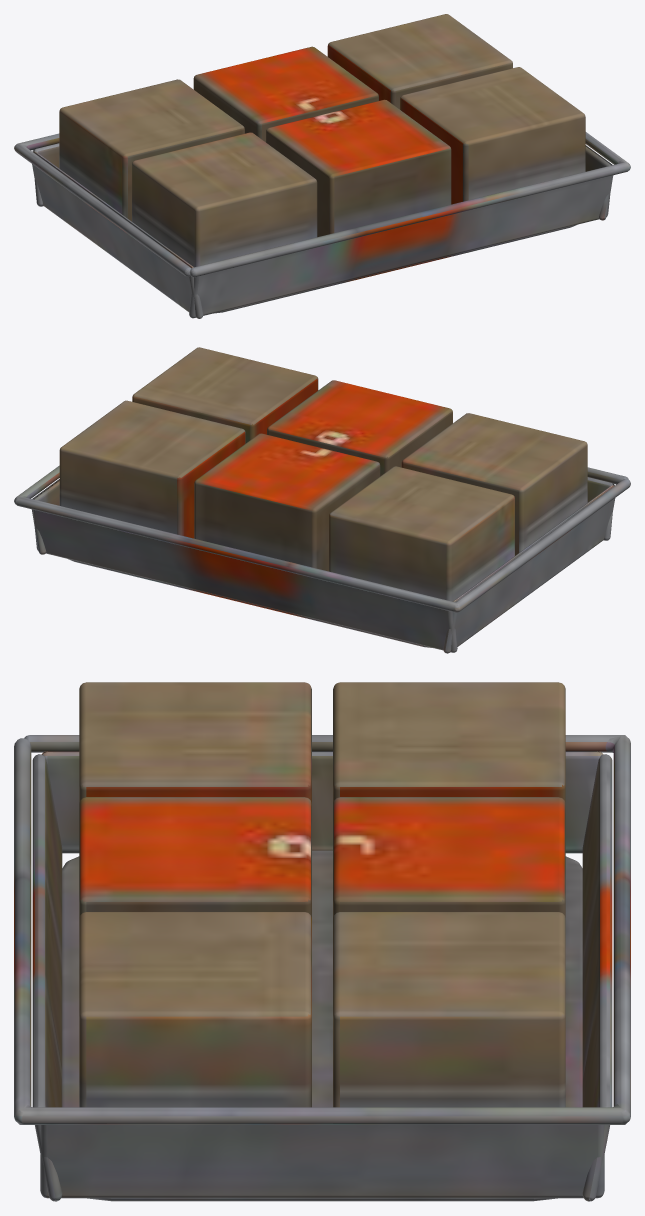
The model's file is protein_pack.glb.
The picture shows the model from 3 angles, top to bottom: view 1: azimuth 30°, elevation 25°; view 2: azimuth 150°, elevation 25°; view 3: azimuth 270°, elevation 25°; orthographic projection. The views are drawn at different scales.
Visible parts, largest first — view 1: protein_pack; view 2: protein_pack; view 3: protein_pack.
Boxes of the visible parts, left/top/right/bottom form: protein_pack: left=14, top=14, right=630, bottom=318; protein_pack: left=14, top=347, right=630, bottom=653; protein_pack: left=14, top=682, right=630, bottom=1201.
Size of the model in its own units: 0.255 by 0.058 by 0.175.
1 material, 1 textured.
